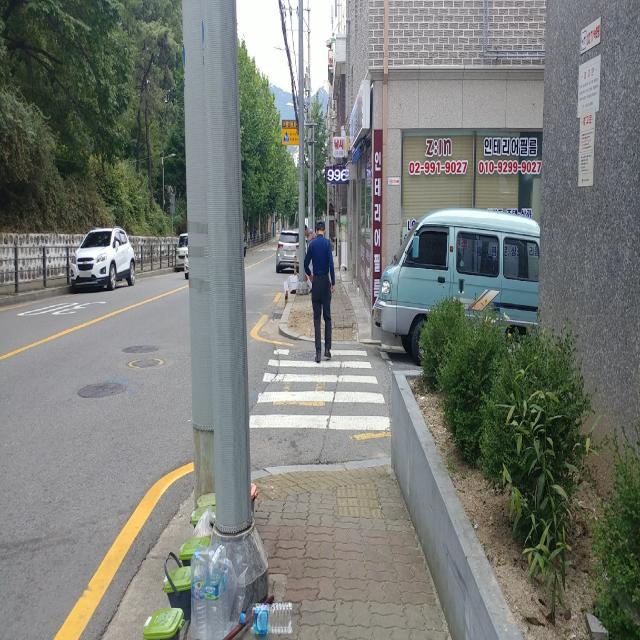횡단보도: (249, 347, 392, 432)
